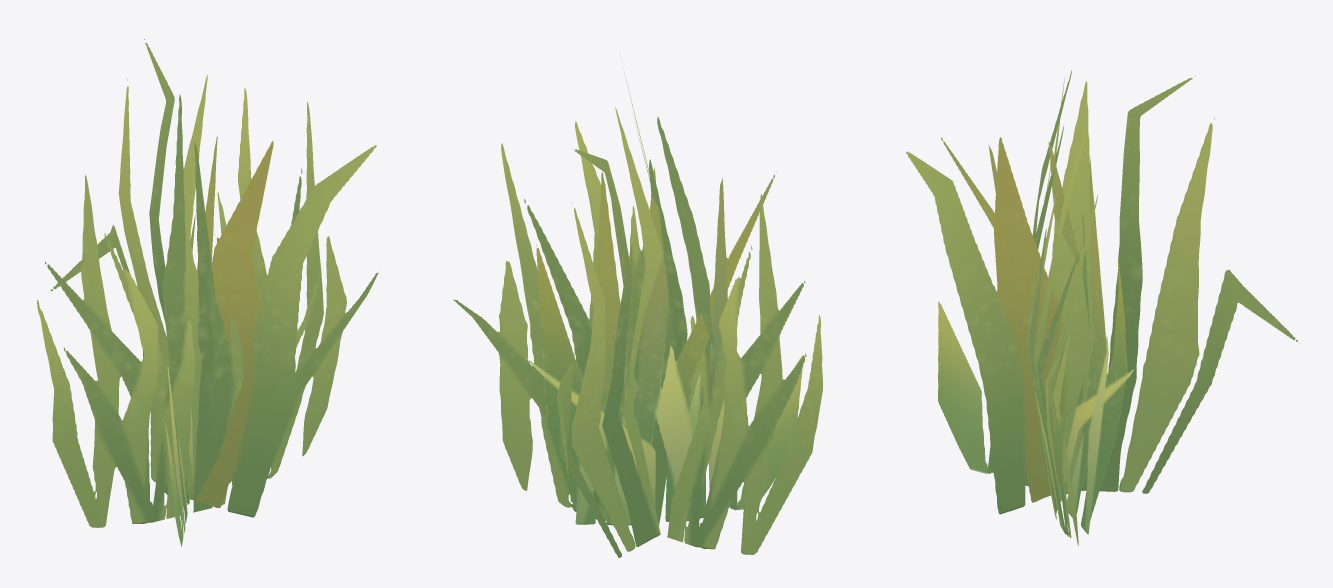
The model's file is grass_cluster_1 1.fbx.
3 renders of one model, left to right at view 1: azimuth 30°, elevation 25°; view 2: azimuth 150°, elevation 25°; view 3: azimuth 270°, elevation 25°, orthographic. The views are drawn at different scales.
Parts seen in each view (by area): view 1: grass_cluster_1; view 2: grass_cluster_1; view 3: grass_cluster_1.
Boxes of the visible parts, left/top/right/bottom form: grass_cluster_1: left=37, top=39, right=378, bottom=547; grass_cluster_1: left=453, top=61, right=822, bottom=557; grass_cluster_1: left=906, top=70, right=1299, bottom=545.
Size of the model in its own units: 83.86 by 89.66 by 74.71.
